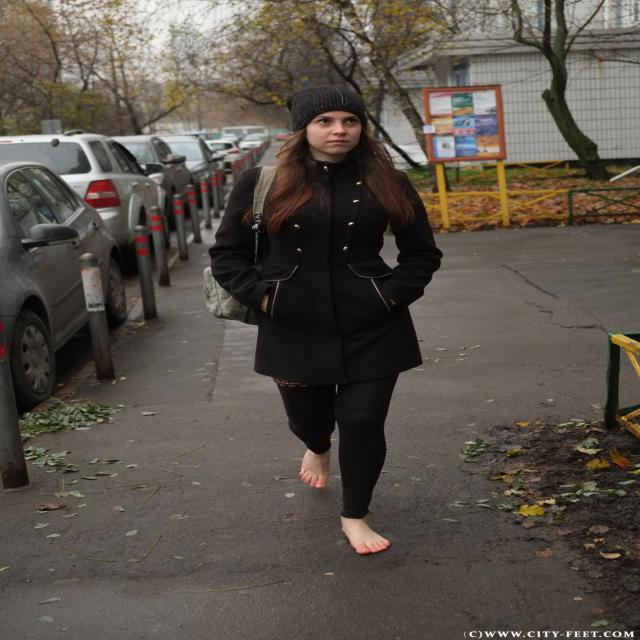Barefoots: (341, 517, 390, 554), (299, 440, 332, 488)
